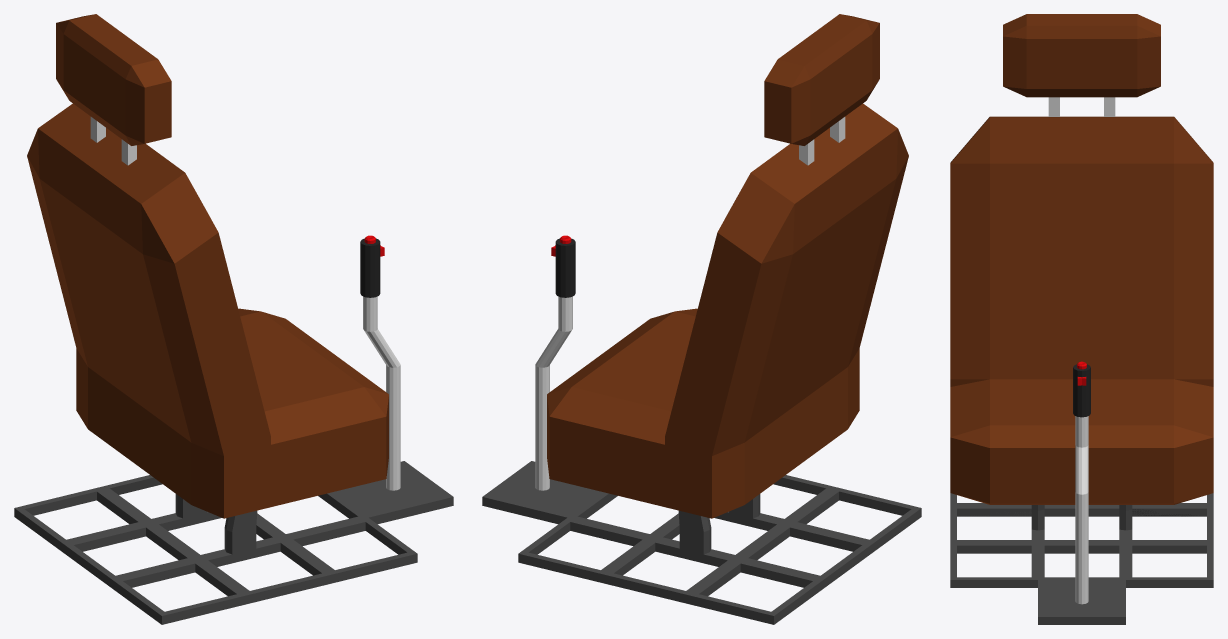
The model's file is pilot_seat.glb.
The picture shows the model from 3 angles, left to right: view 1: azimuth 30°, elevation 25°; view 2: azimuth 150°, elevation 25°; view 3: azimuth 270°, elevation 25°; orthographic projection. The views are drawn at different scales.
Visible parts, largest first — view 1: Cube.001; view 2: Cube.001; view 3: Cube.001.
Part boxes in pixels (bbox=[...]): Cube.001: bbox=[14, 14, 453, 624]; Cube.001: bbox=[482, 14, 921, 624]; Cube.001: bbox=[950, 14, 1213, 624].
Size of the model in its own units: 8 by 11.77 by 6.
